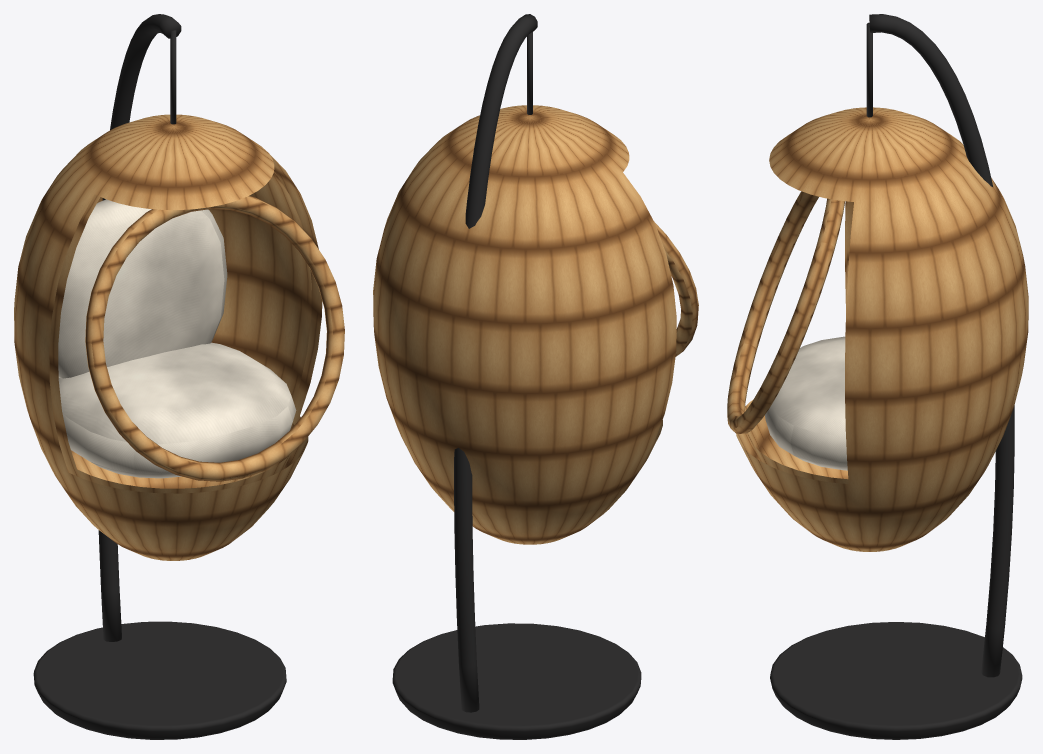
Rendered from egg_chair.glb.
3 views of the same model, side by side, from view 1: azimuth 30°, elevation 25°; view 2: azimuth 150°, elevation 25°; view 3: azimuth 270°, elevation 25° (orthographic).
Parts seen in each view (by area): view 1: model; view 2: model; view 3: model.
Boxes of the visible parts, left/top/right/bottom form: model: left=14, top=14, right=344, bottom=739; model: left=373, top=14, right=698, bottom=739; model: left=727, top=14, right=1028, bottom=739.
Size of the model in its own units: 0.8426 by 1.98 by 0.7994.
Materials: 3 (3 with a texture image).
